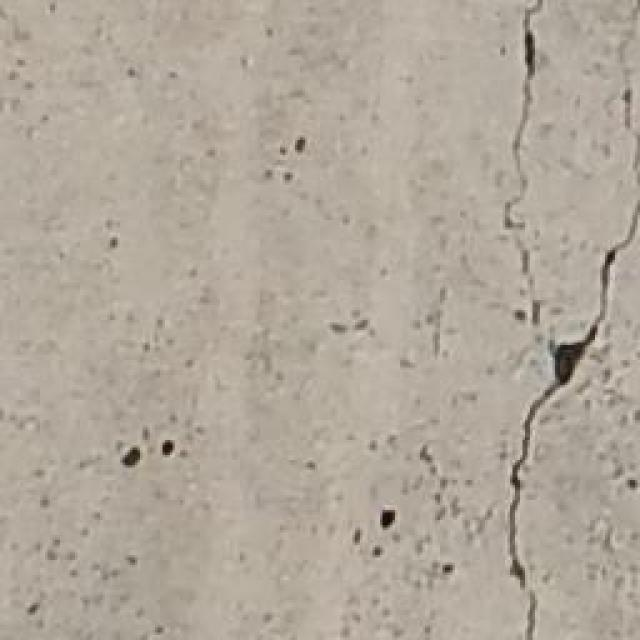concrete-crack: (502, 0, 640, 640)
